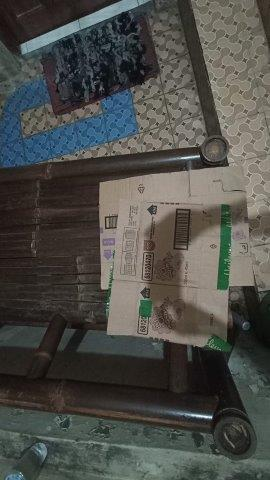kardus: (101, 168, 253, 349)
